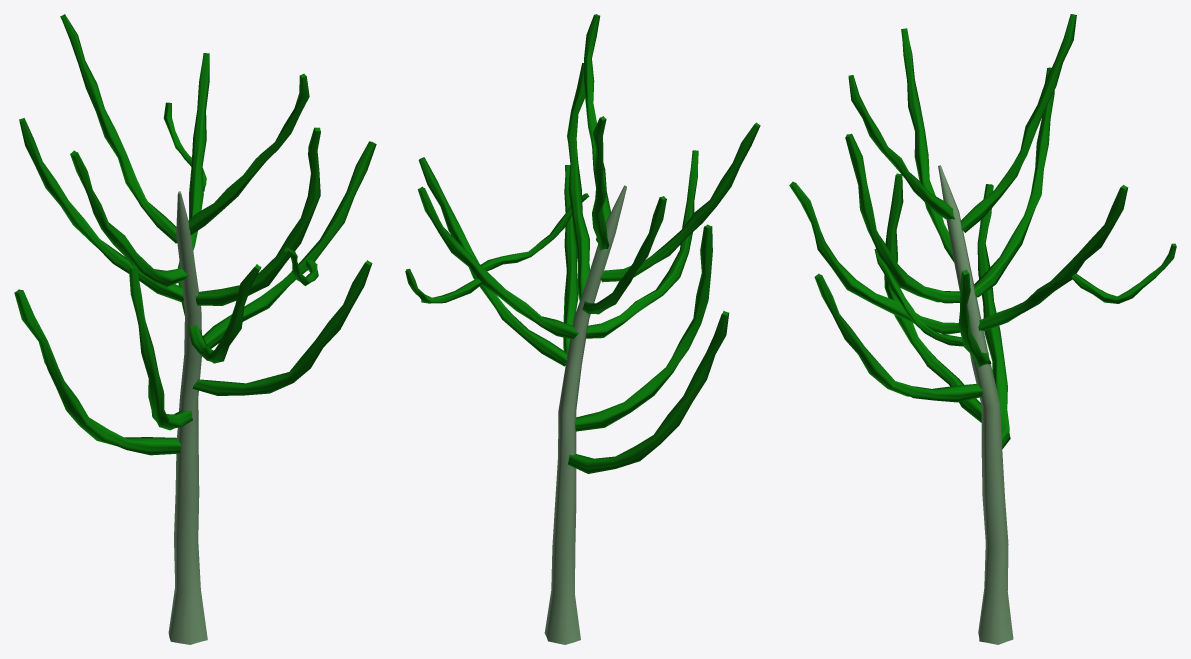
Rendered from TreeV2_2.fbx.
The picture shows the model from 3 angles, left to right: view 1: azimuth 30°, elevation 25°; view 2: azimuth 150°, elevation 25°; view 3: azimuth 270°, elevation 25°; orthographic projection. The views are drawn at different scales.
Parts seen in each view (by area): view 1: Foliage005; view 2: Foliage005; view 3: Foliage005.
Part boxes in pixels (bbox=[...]): Foliage005: bbox=[14, 14, 376, 644]; Foliage005: bbox=[405, 14, 760, 644]; Foliage005: bbox=[789, 14, 1176, 644].
Bounding box in the file's own units: 145 × 244 × 147.
